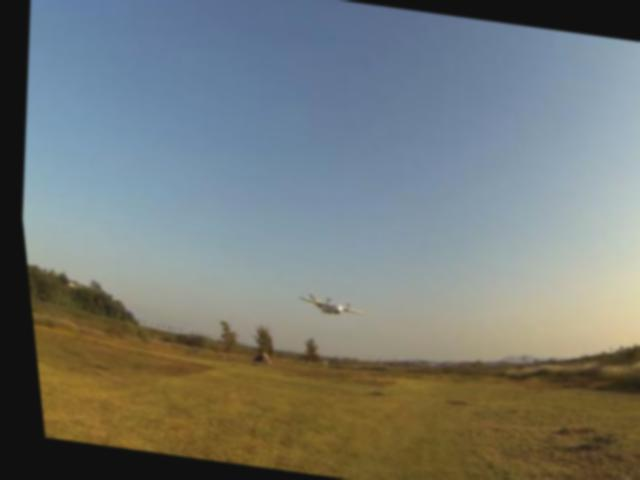uav: (283, 281, 363, 330)
